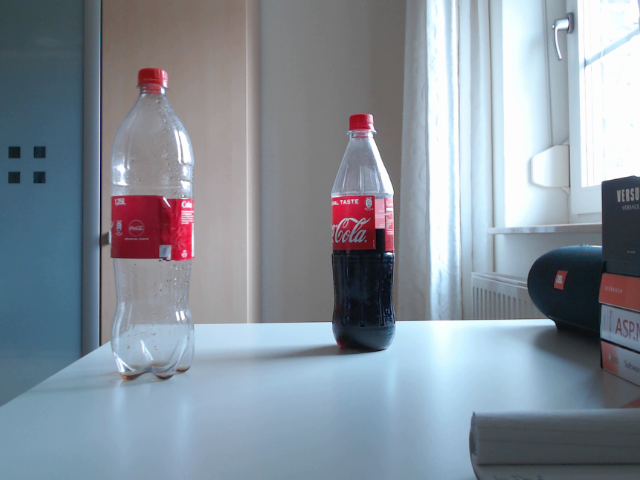bottle: (110, 67, 196, 381), (331, 113, 396, 352)
